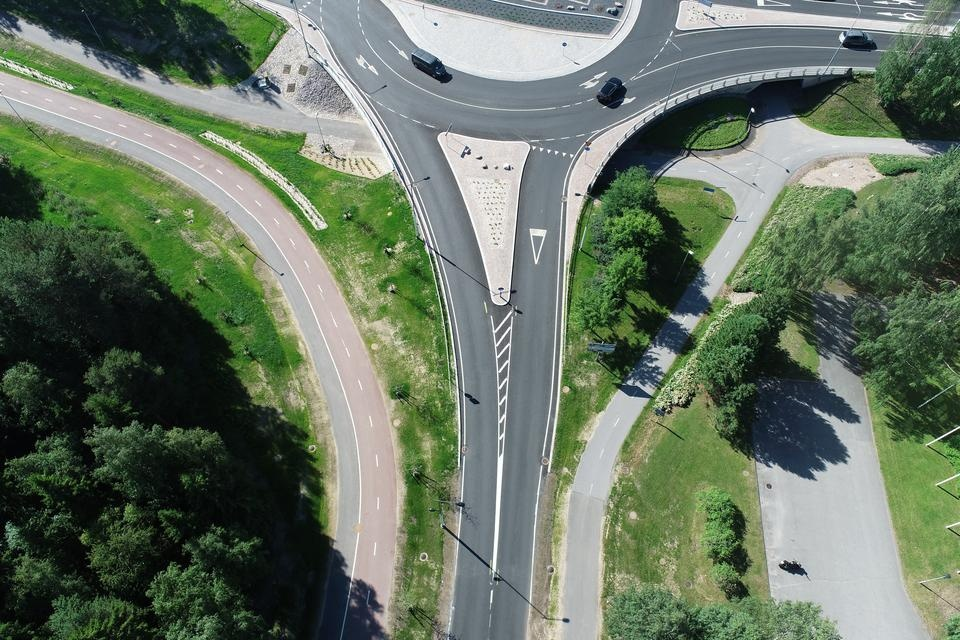roundabout: (232, 0, 723, 258)
